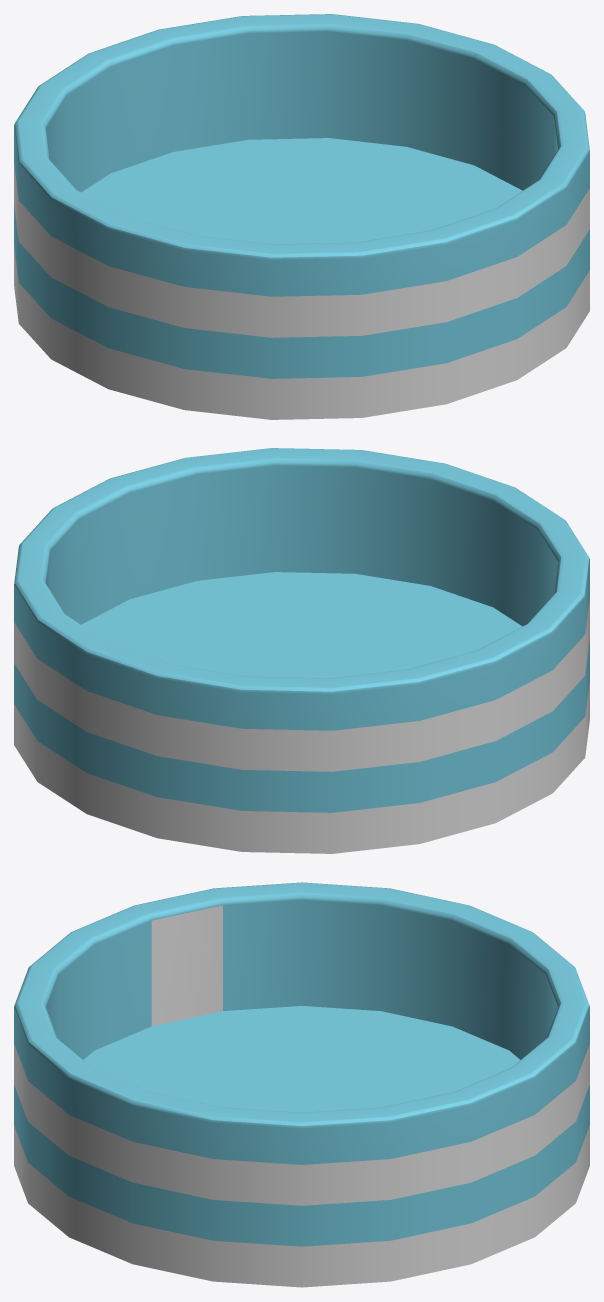
Rendered from pool.fbx.
The picture shows the model from 3 angles, top to bottom: view 1: azimuth 30°, elevation 25°; view 2: azimuth 150°, elevation 25°; view 3: azimuth 270°, elevation 25°; orthographic projection.
Visible parts, largest first — view 1: pool; view 2: pool; view 3: pool.
Boxes of the visible parts, left/top/right/bottom form: pool: left=14, top=14, right=589, bottom=419; pool: left=14, top=448, right=589, bottom=853; pool: left=14, top=882, right=589, bottom=1287.
Bounding box in the file's own units: 3.05 × 0.953 × 3.05.
